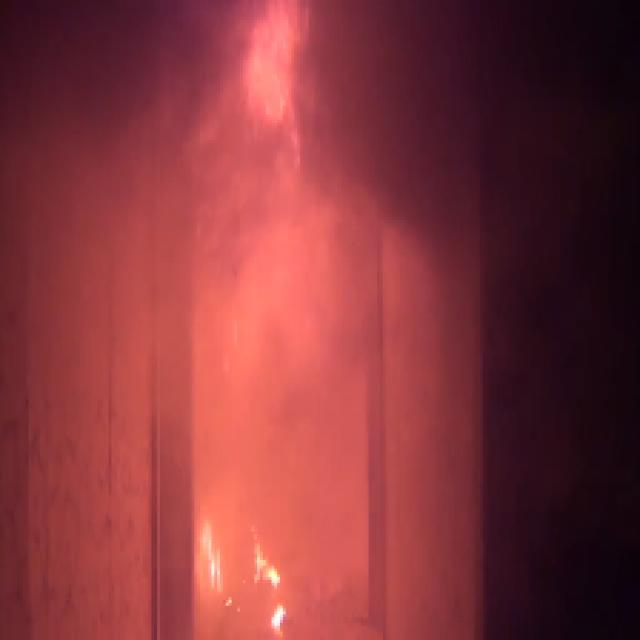Fire: (203, 526, 294, 632), (254, 20, 294, 109)
Smoke: (197, 163, 374, 483), (88, 6, 243, 158), (323, 17, 466, 154)
